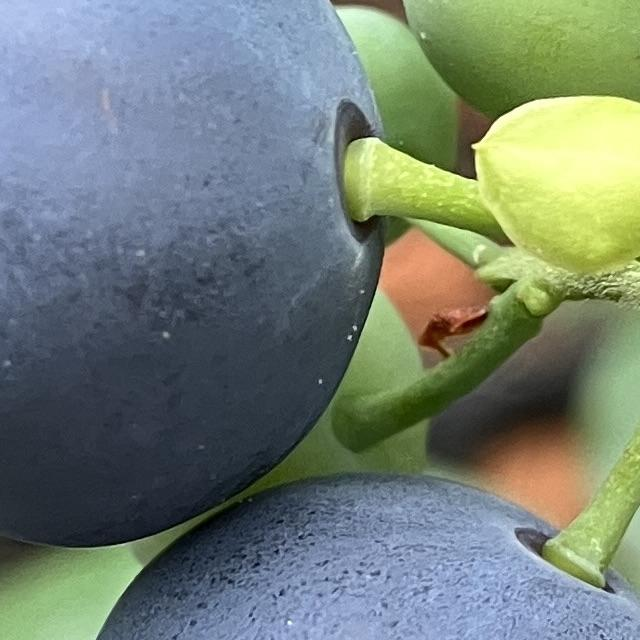Blueberries: (0, 0, 398, 547), (64, 470, 640, 640)
